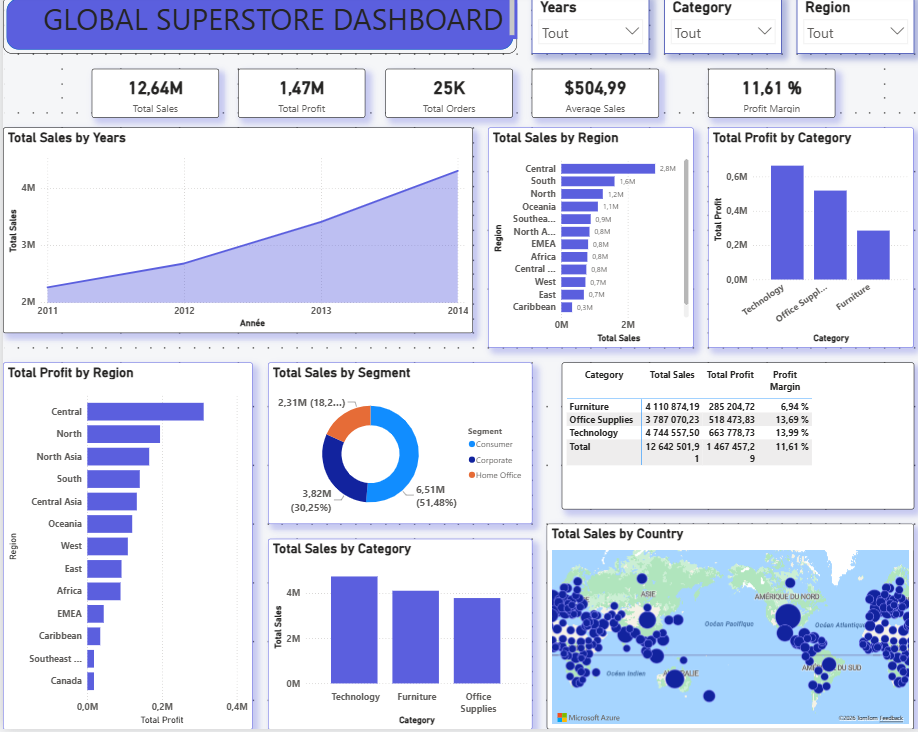

This screenshot's page, from the dashboard's own definition file:
{"tool":"powerbi","page":{"name":"Page 1","canvas":[1500,1200],"ordinal":0},"visuals":[{"type":"shape","box":[0,0,840,96],"z":0},{"type":"card","fields":{"Values":["Global_Superstore2.Total Profit"]},"box":[384,120,208,80],"z":1},{"type":"card","fields":{"Values":["Global_Superstore2.Total Sales"]},"box":[144,120,208,80],"z":2},{"type":"card","fields":{"Values":["Global_Superstore2.Total Orders"]},"box":[624,120,208,80],"z":3},{"type":"card","fields":{"Values":["Global_Superstore2.Average Sales"]},"box":[864,120,208,80],"z":4},{"type":"card","fields":{"Values":["Global_Superstore2.Profit Margin"]},"box":[1152,120,208,80],"z":5},{"type":"textbox","box":[24,0,816,72],"z":6},{"type":"clusteredBarChart","title":"Total Sales by Region","fields":{"Category":["Global_Superstore2.Region"],"Y":["Global_Superstore2.Total Sales"]},"box":[792,216,336,360],"z":7},{"type":"clusteredBarChart","title":"Total Profit by Region","fields":{"Category":["Global_Superstore2.Region"],"Y":["Global_Superstore2.Total Profit"]},"box":[0,600,408,600],"z":8},{"type":"clusteredColumnChart","title":"Total Sales by Category","fields":{"Category":["Global_Superstore2.Category"],"Y":["Global_Superstore2.Total Sales"]},"box":[432,888,432,312],"z":9},{"type":"clusteredColumnChart","title":"Total Profit by Category","fields":{"Category":["Global_Superstore2.Category"],"Y":["Global_Superstore2.Total Profit"]},"box":[1152,216,336,360],"z":10},{"type":"stackedAreaChart","title":"Total Sales by Years","fields":{"Category":["Global_Superstore2.Order Date.Variation.Hiérarchie de dates.Année","Global_Superstore2.Order Date.Variation.Hiérarchie de dates.Trimestre","Global_Superstore2.Order Date.Variation.Hiérarchie de dates.Mois","Global_Superstore2.Order Date.Variation.Hiérarchie de dates.Jour"],"Y":["Global_Superstore2.Total Sales"]},"box":[0,216,768,336],"z":11},{"type":"donutChart","title":"Total Sales by Segment","fields":{"Category":["Global_Superstore2.Segment"],"Y":["Global_Superstore2.Total Sales"]},"box":[432,600,432,264],"z":12},{"type":"azureMap","title":"Total Sales by Country","fields":{"Category":["Global_Superstore2.Country"],"Size":["Global_Superstore2.Total Sales"]},"box":[888,864,600,336],"z":13},{"type":"pivotTable","fields":{"Rows":["Global_Superstore2.Category"],"Values":["Global_Superstore2.Total Sales","Global_Superstore2.Total Profit","Global_Superstore2.Profit Margin"]},"box":[912,600,576,240],"z":14},{"type":"slicer","fields":{"Values":["Global_Superstore2.Order Date"]},"box":[864,0,192,96],"z":15},{"type":"slicer","fields":{"Values":["Global_Superstore2.Category"]},"box":[1080,0,192,96],"z":16},{"type":"slicer","fields":{"Values":["Global_Superstore2.Region"]},"box":[1296,0,192,96],"z":17}]}

Visuals, with their boxes in screenshot pixels (x1, y1, x2, y2), scaled from the page's 1500x1200 canvas onto the 918x732 screenshot:
shape: detection(0, 0, 514, 59)
card - Global_Superstore2.Total Profit: detection(235, 73, 362, 122)
card - Global_Superstore2.Total Sales: detection(88, 73, 215, 122)
card - Global_Superstore2.Total Orders: detection(382, 73, 509, 122)
card - Global_Superstore2.Average Sales: detection(529, 73, 656, 122)
card - Global_Superstore2.Profit Margin: detection(705, 73, 832, 122)
textbox: detection(15, 0, 514, 44)
"Total Sales by Region" clusteredBarChart: detection(485, 132, 690, 351)
"Total Profit by Region" clusteredBarChart: detection(0, 366, 250, 731)
"Total Sales by Category" clusteredColumnChart: detection(264, 542, 529, 731)
"Total Profit by Category" clusteredColumnChart: detection(705, 132, 911, 351)
"Total Sales by Years" stackedAreaChart: detection(0, 132, 470, 337)
"Total Sales by Segment" donutChart: detection(264, 366, 529, 527)
"Total Sales by Country" azureMap: detection(543, 527, 911, 731)
pivotTable - Global_Superstore2.Category x Global_Superstore2.Total Sales: detection(558, 366, 911, 512)
slicer - Global_Superstore2.Order Date: detection(529, 0, 646, 59)
slicer - Global_Superstore2.Category: detection(661, 0, 778, 59)
slicer - Global_Superstore2.Region: detection(793, 0, 911, 59)
